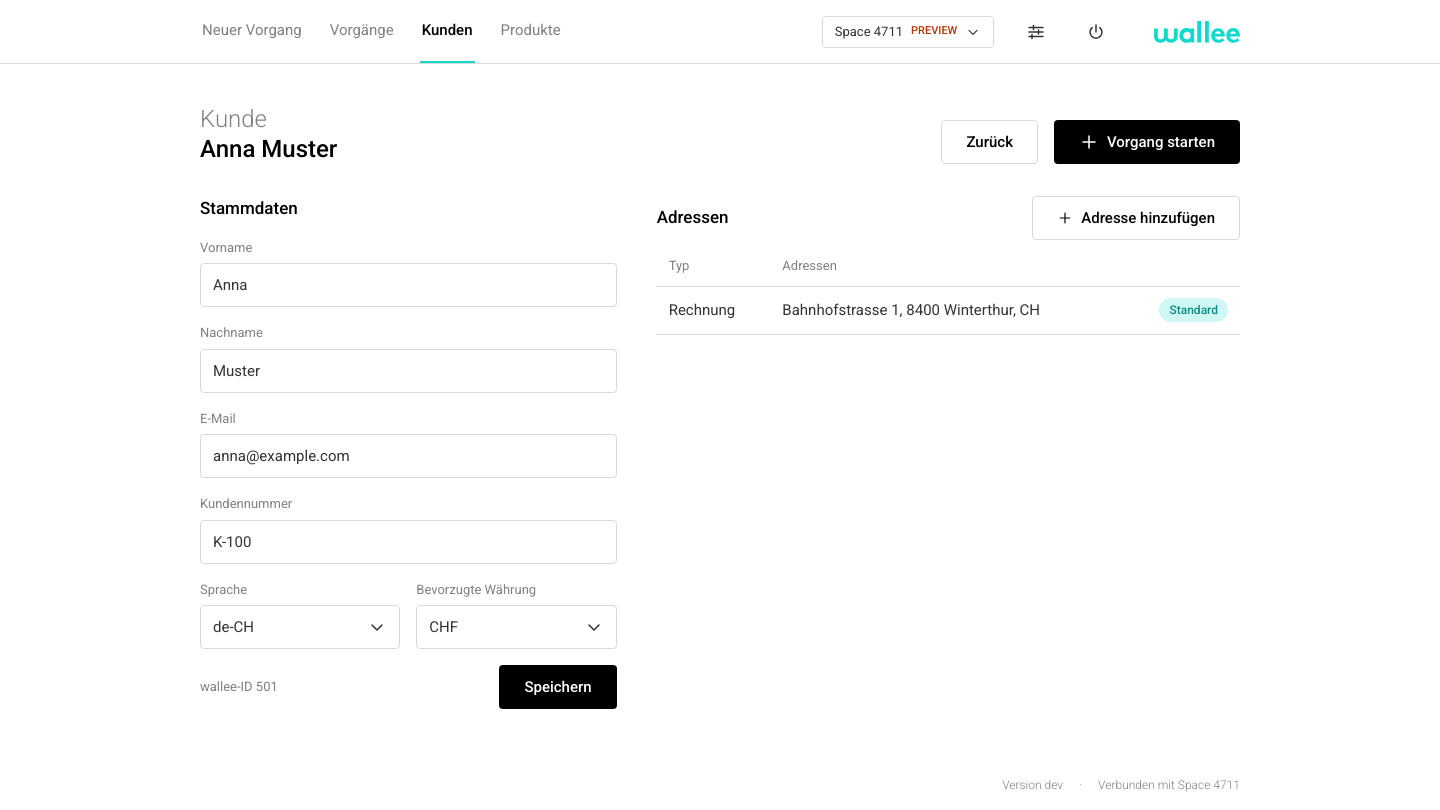
it: CustomerDetailPage › saves master data with the current version
Replace the text in the field labelled "Vorname" with "Anne" at (408, 285), box [200,263,617,307]
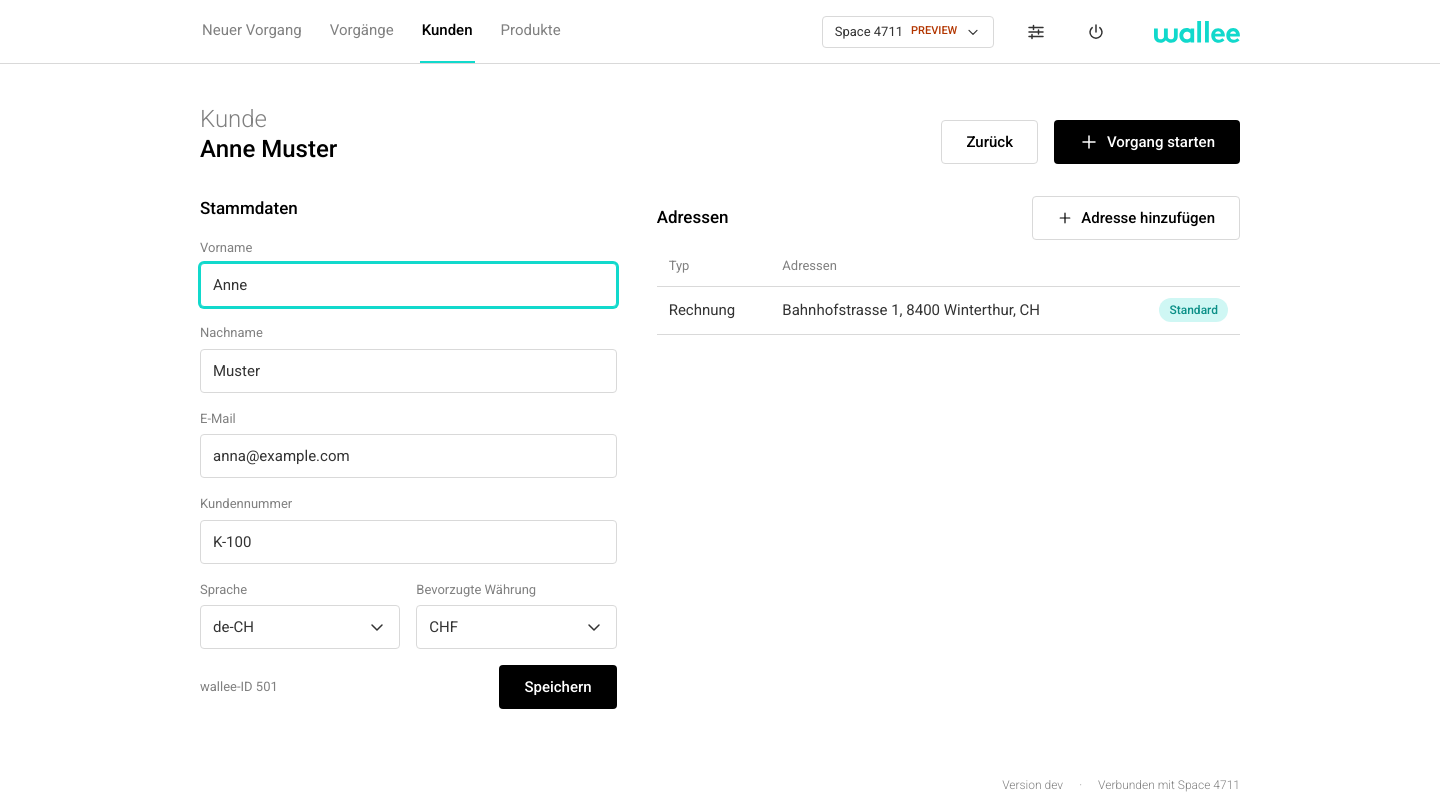
Click the button "Speichern".
click(558, 687)  # box [499,665,617,709]
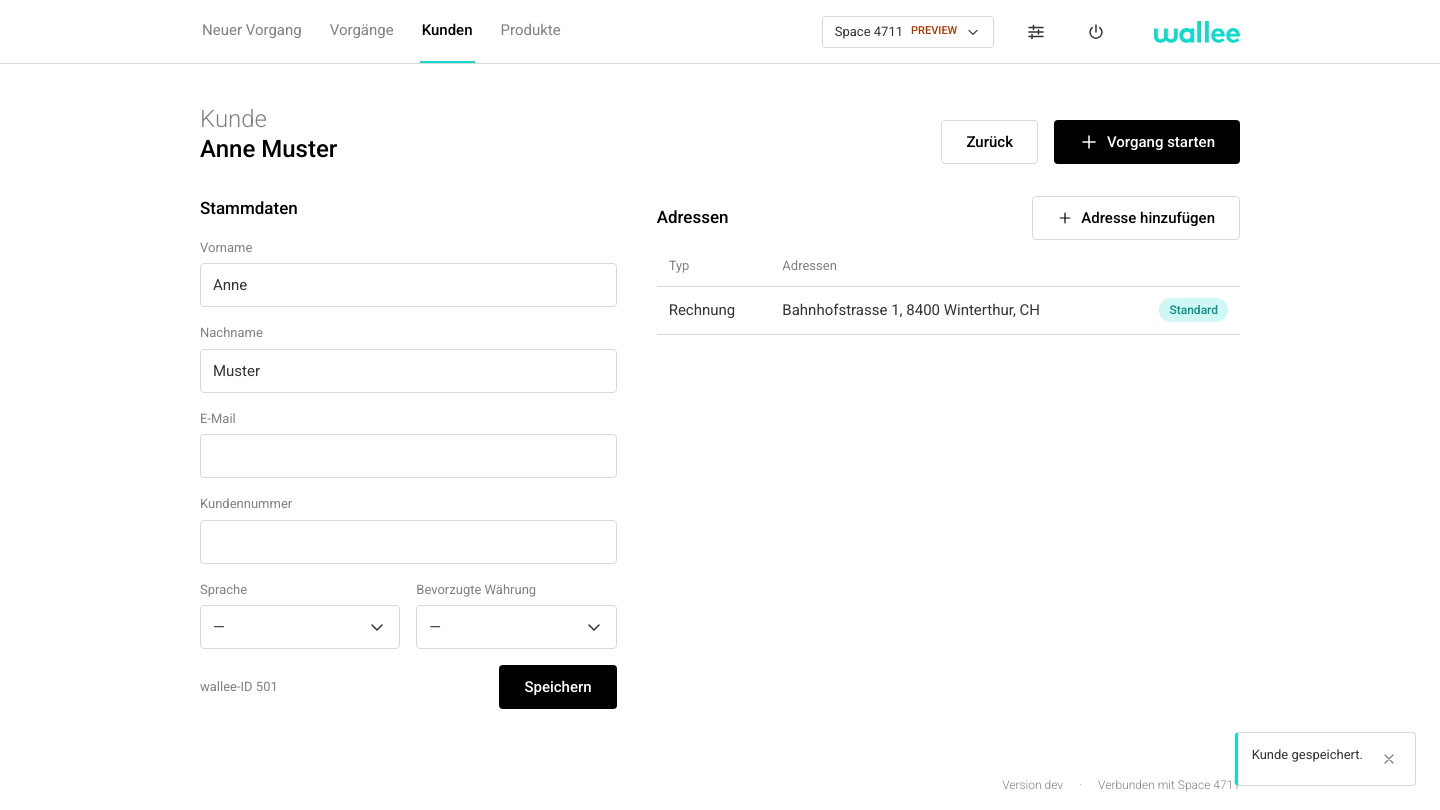
Expected: the text "Bahnhofstrasse 1, 8400 Winterthur, CH" is shown, [770,286,1124,334]
Expected: the text "Kunde gespeichert." is shown, [1252,745,1363,764]
